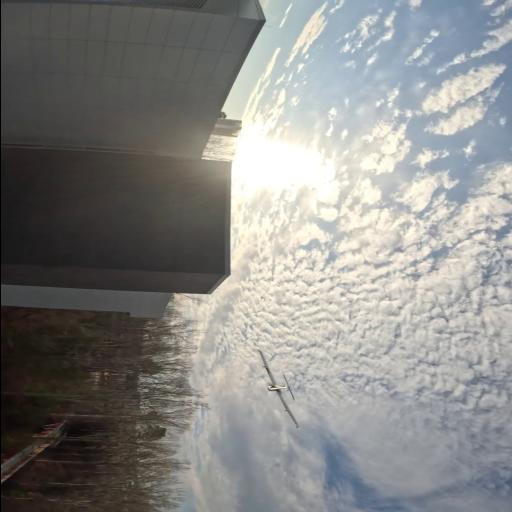uav: (245, 348, 303, 431)
